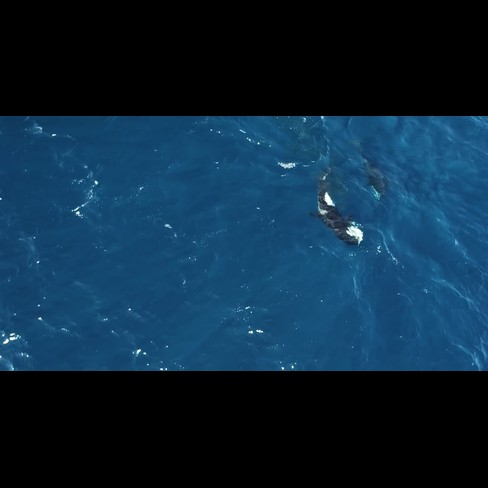orca: (306, 165, 370, 255)
